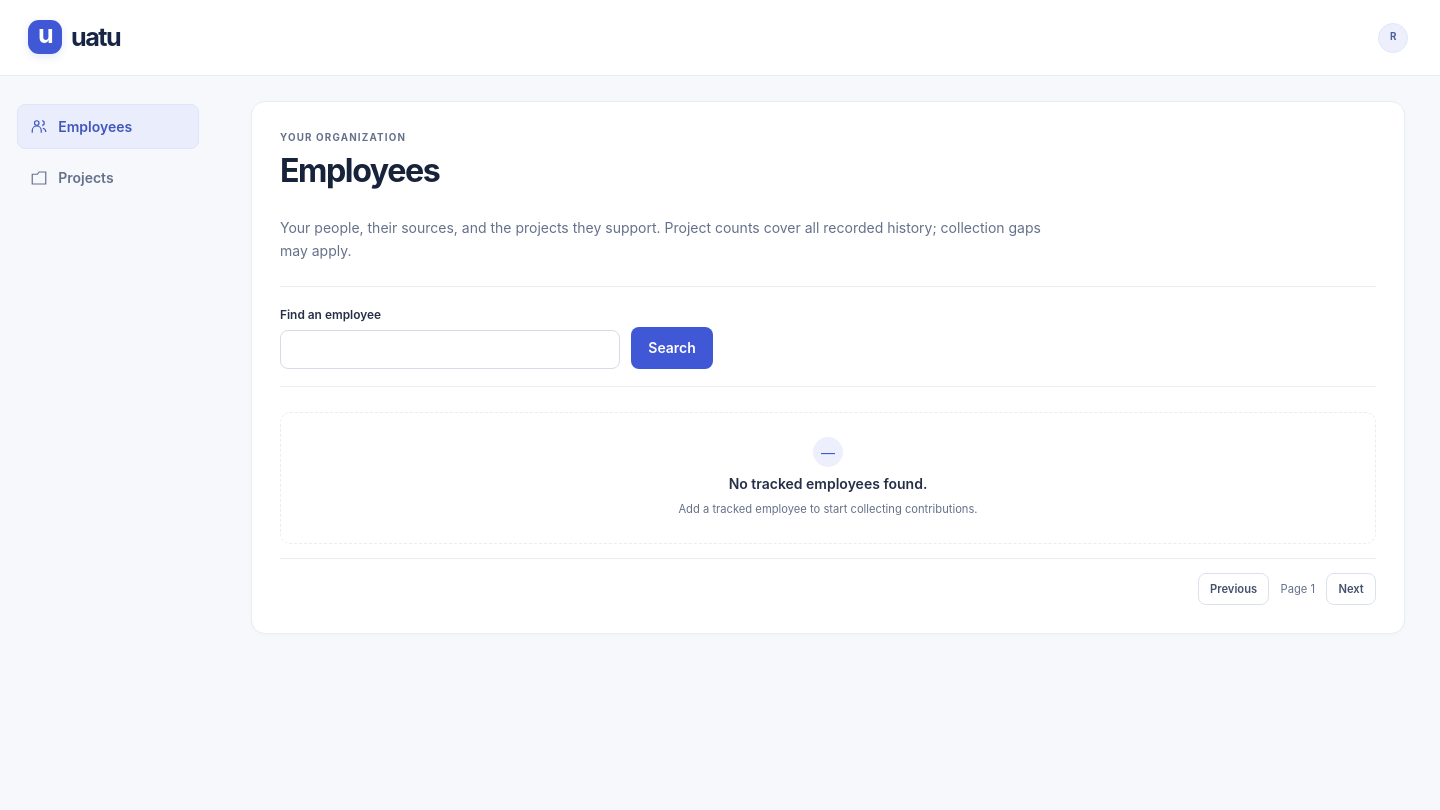
Test case: dashboard › searches the employee roster and handles empty results
The image size is (1440, 810).
Check: the text "No tracked employees found." is shown, box top-left (729, 475), bottom-right (927, 492)
In the search field: (450, 349) top-left (280, 330), bottom-right (620, 369), type "Alex"
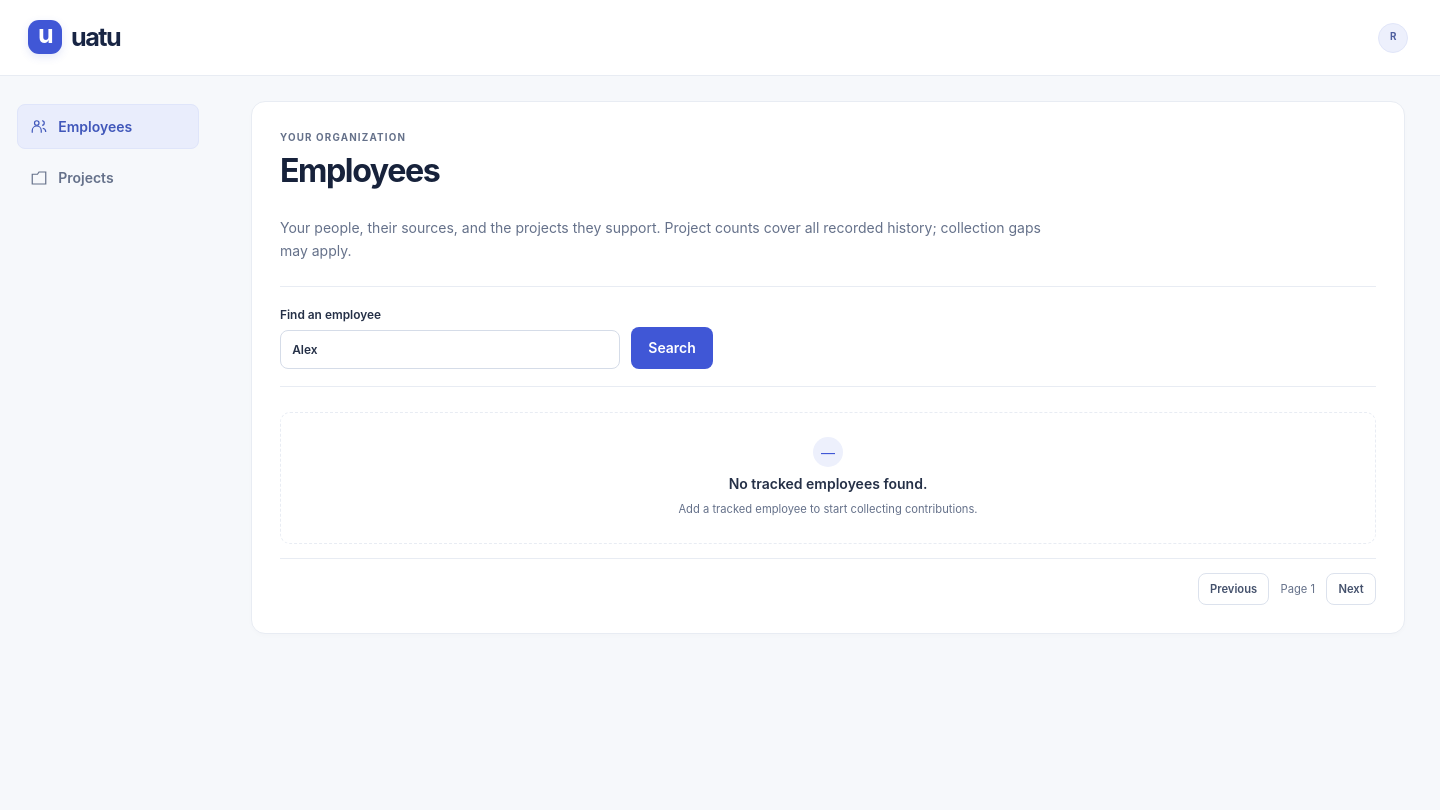
Click the button "Search": (672, 348) top-left (631, 327), bottom-right (713, 369)
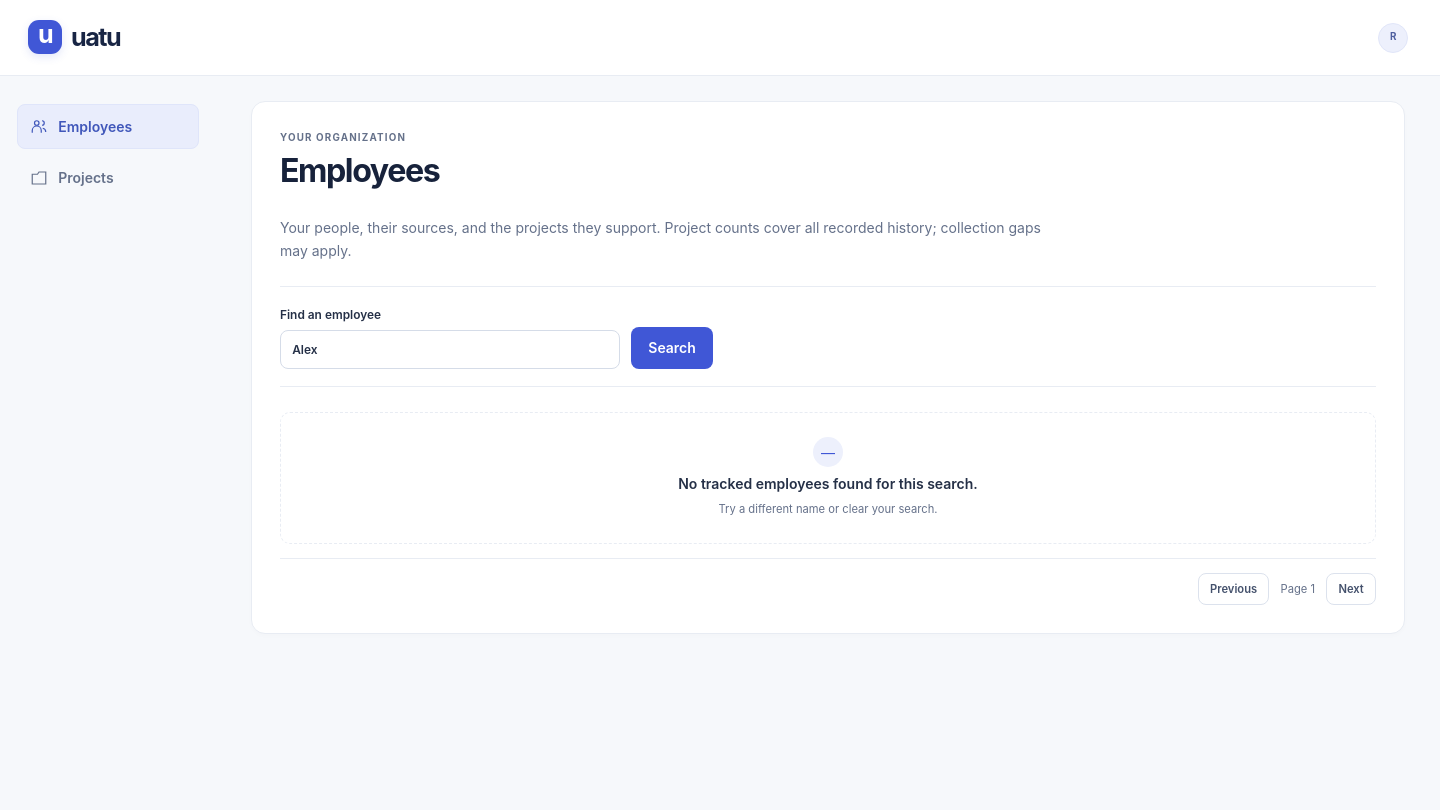
Check: the text "No tracked employees found for this search." is shown, box top-left (678, 475), bottom-right (978, 492)
